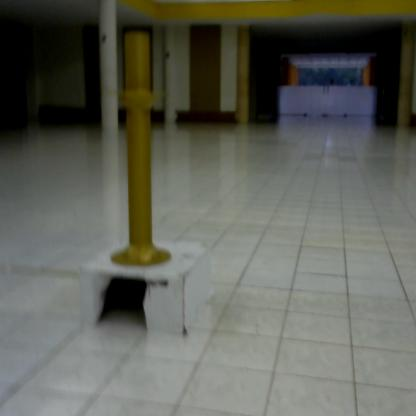pole: (101, 29, 181, 270)
